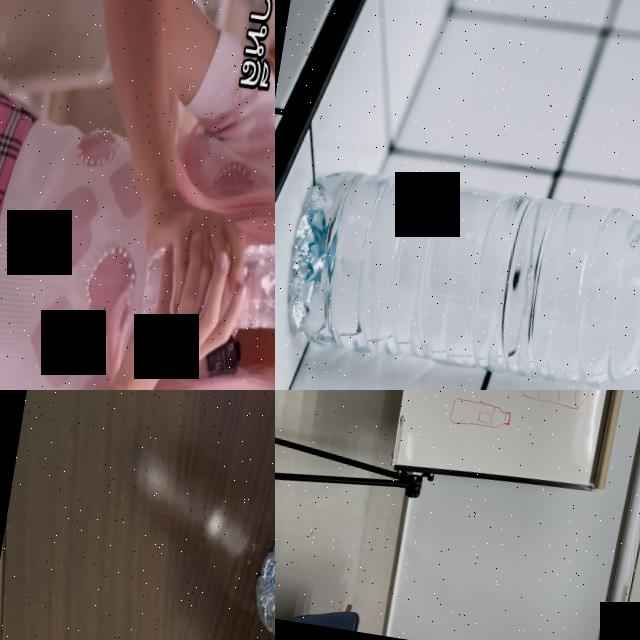bottle: (275, 156, 640, 390), (135, 219, 275, 366)
